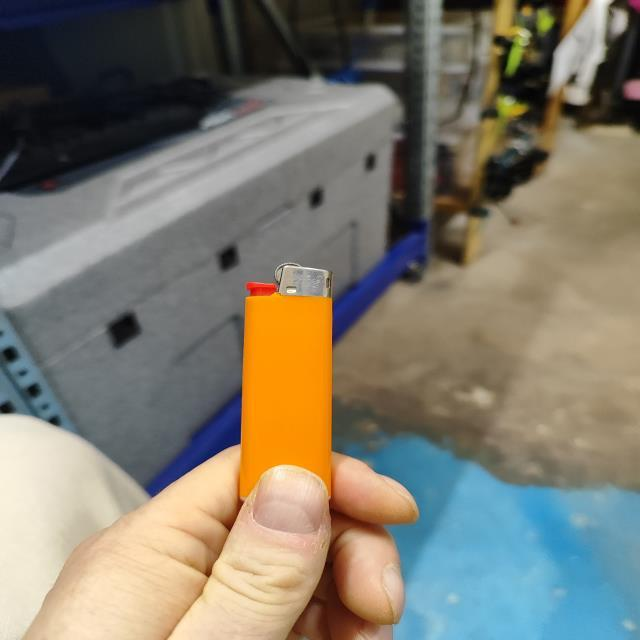lighter: (240, 263, 332, 496)
